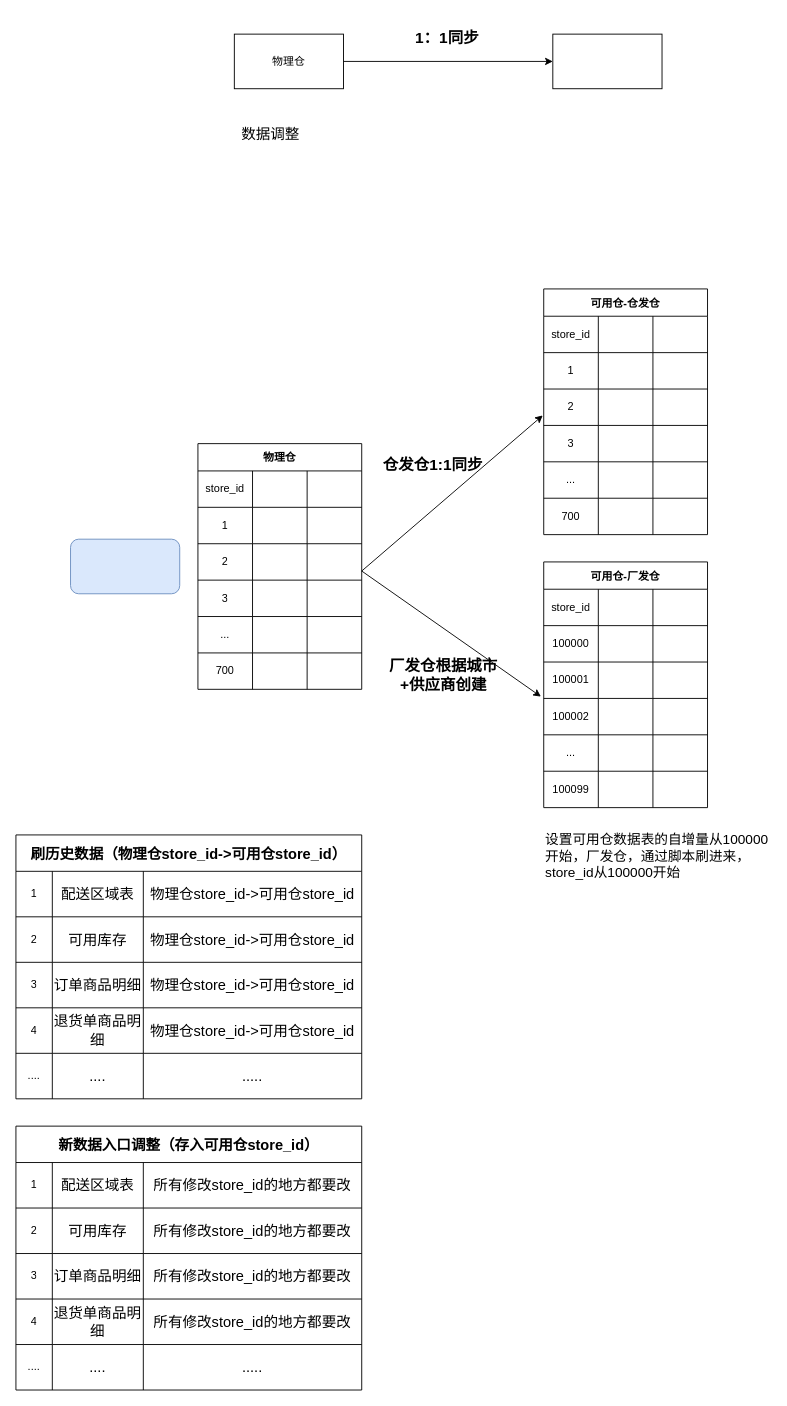
This 787x1406 diagram has some shape labels left out. The shapes that lost their labels are listed below. From the top down, each one's centre as x and y in pixels, then its label:
the point at 607,61: 可用仓
the point at 125,566: 初始化
